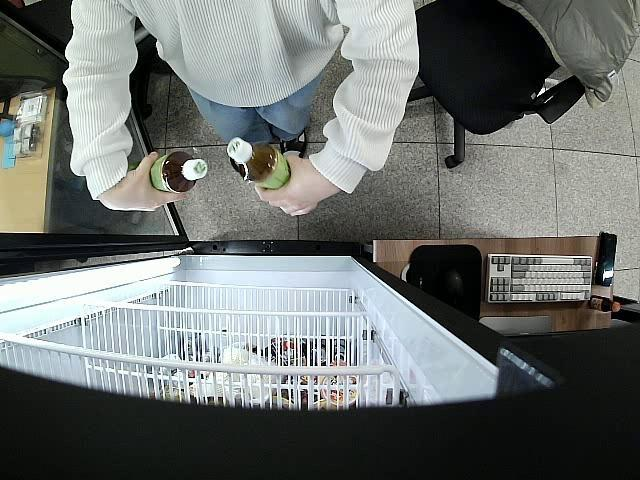19_17cha: (227, 136, 292, 192), (150, 150, 208, 194)
